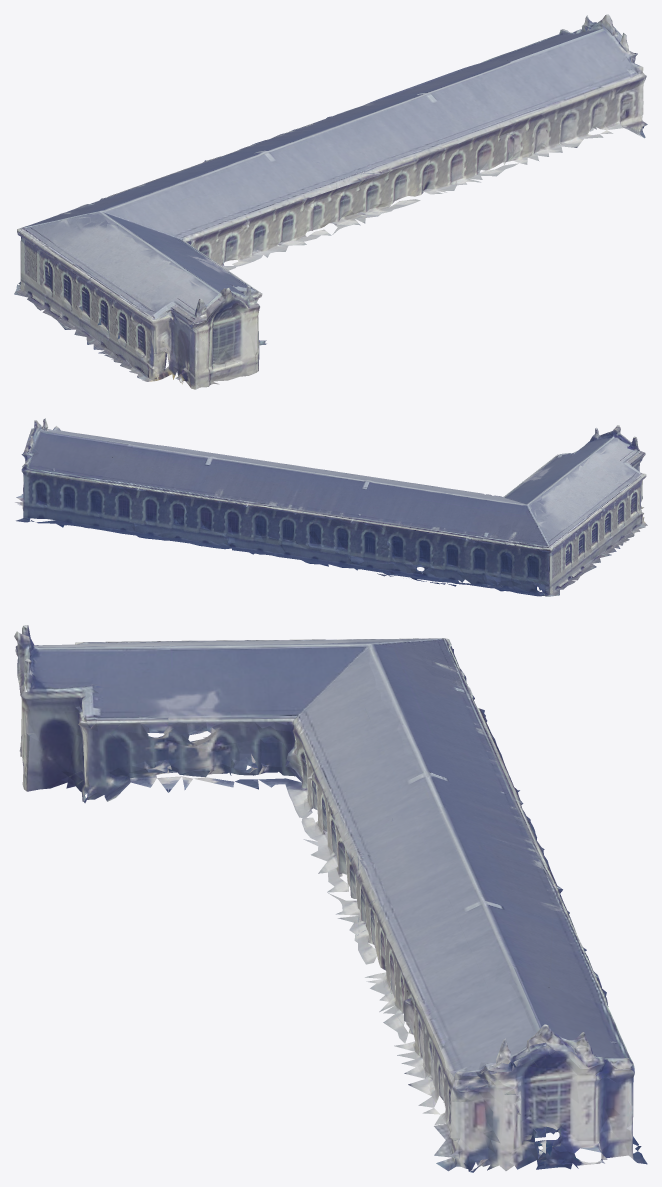
Rendered from batiment-des-forces-motrices.glb.
The picture shows the model from 3 angles, top to bottom: view 1: azimuth 30°, elevation 25°; view 2: azimuth 150°, elevation 25°; view 3: azimuth 270°, elevation 25°; orthographic projection. The views are drawn at different scales.
Size of the model in its own units: 137 by 21.07 by 80.76.
Materials: 3 (3 with a texture image).
